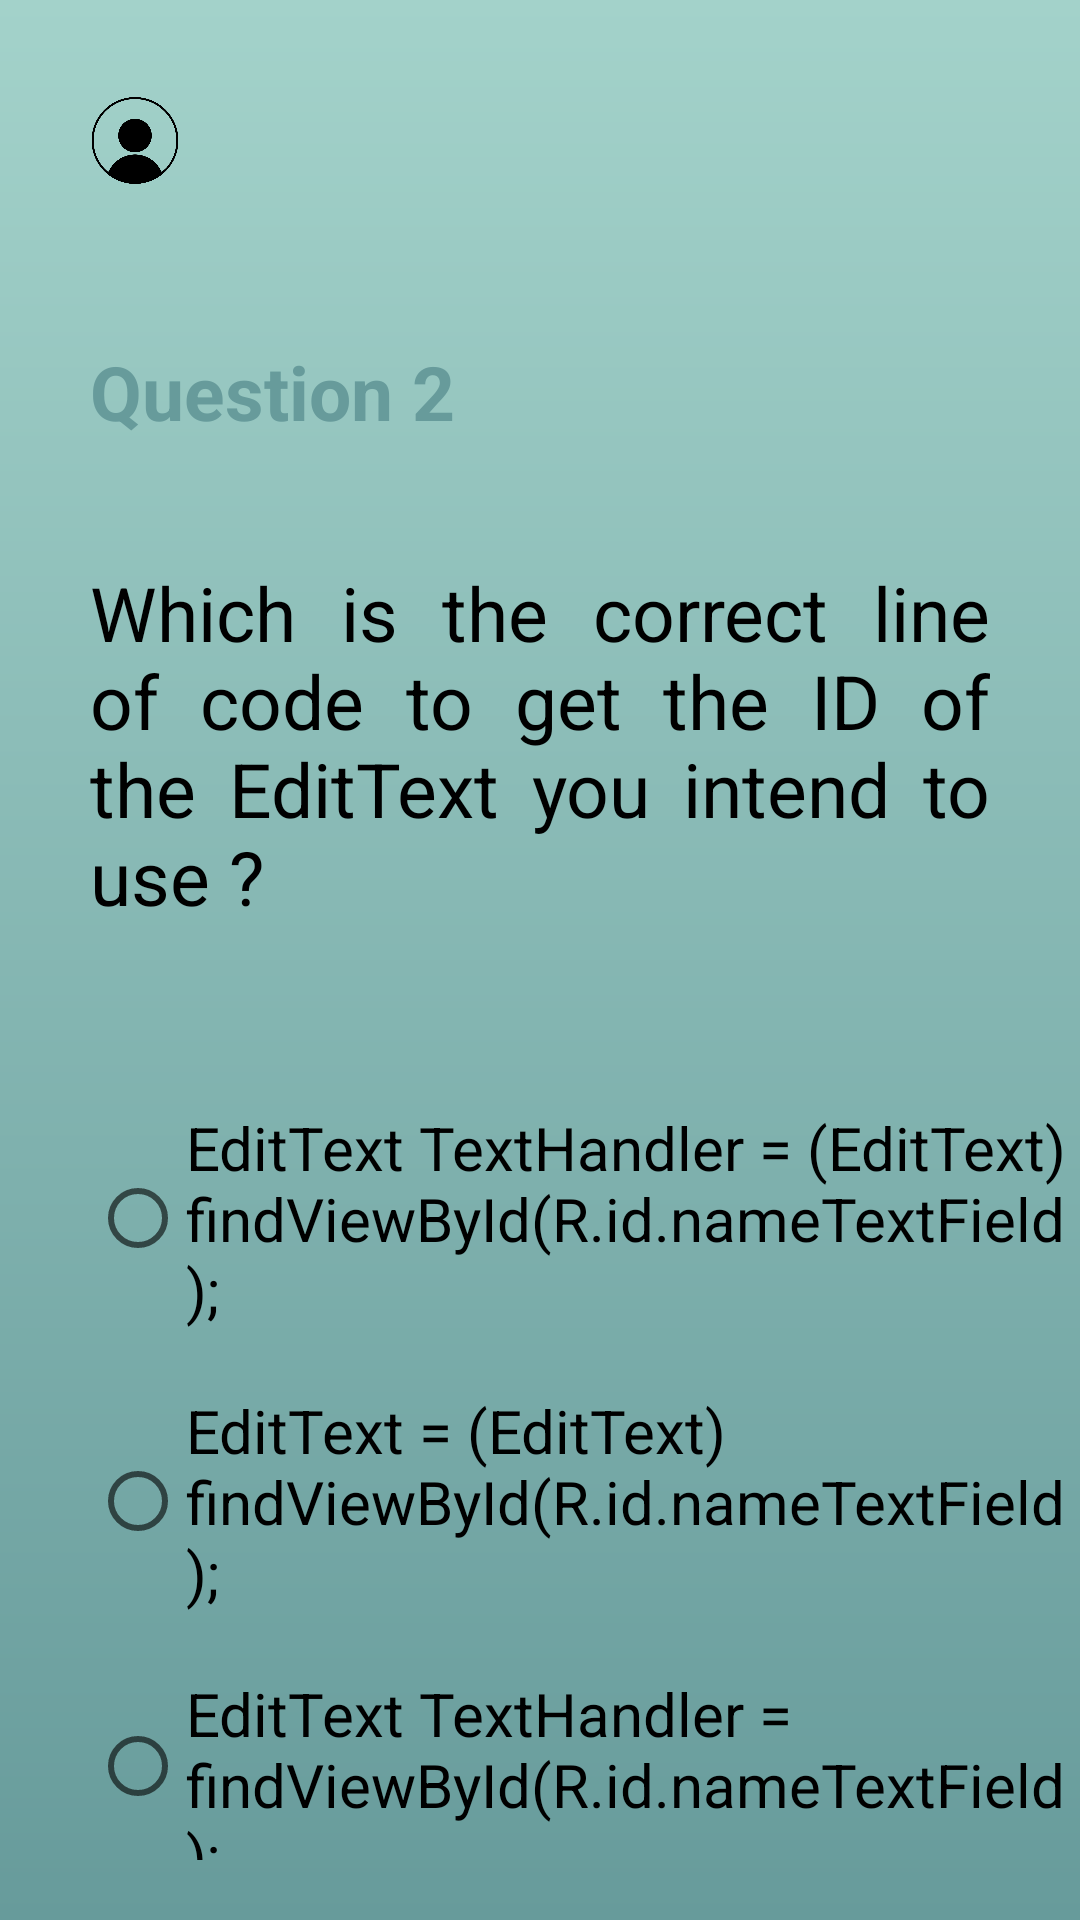

Named icons in this screenshot (1080*1920) and their centers, point (x, y):
profil: point (135, 140)
